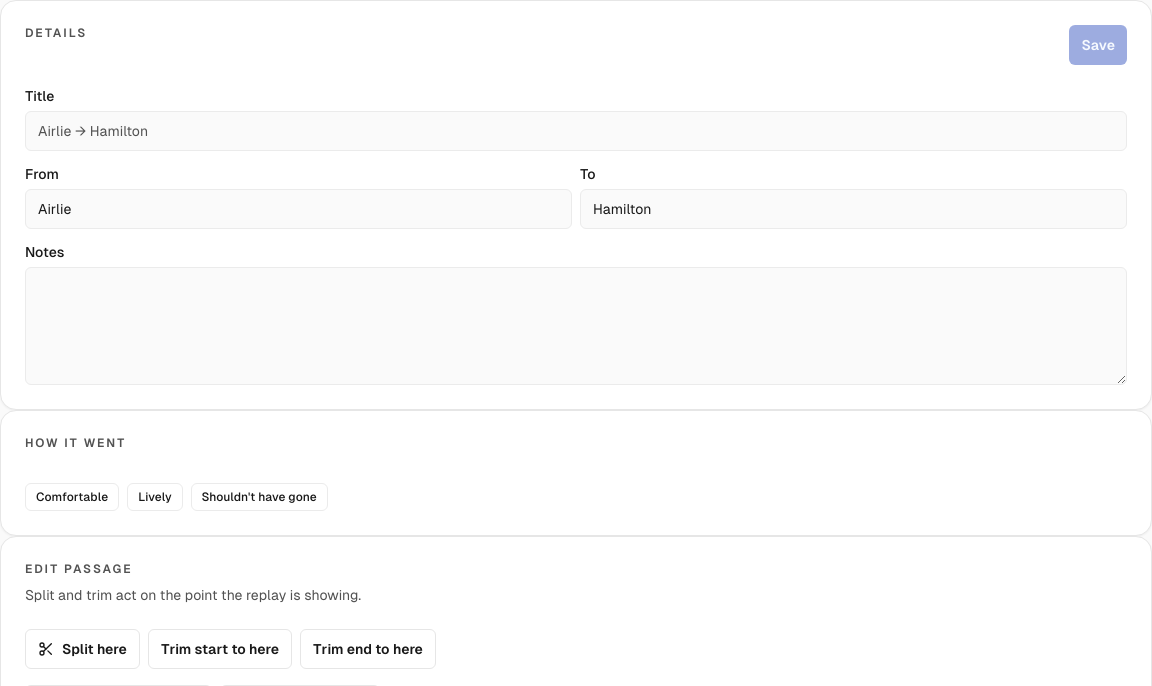
Test case: PassageEditPanel with unsaved edits › refuses split, trim and merge until the edits are saved, and says why
Type "x" into the text box labelled "Notes". click: x=576, y=326
box: [25, 267, 1127, 385]
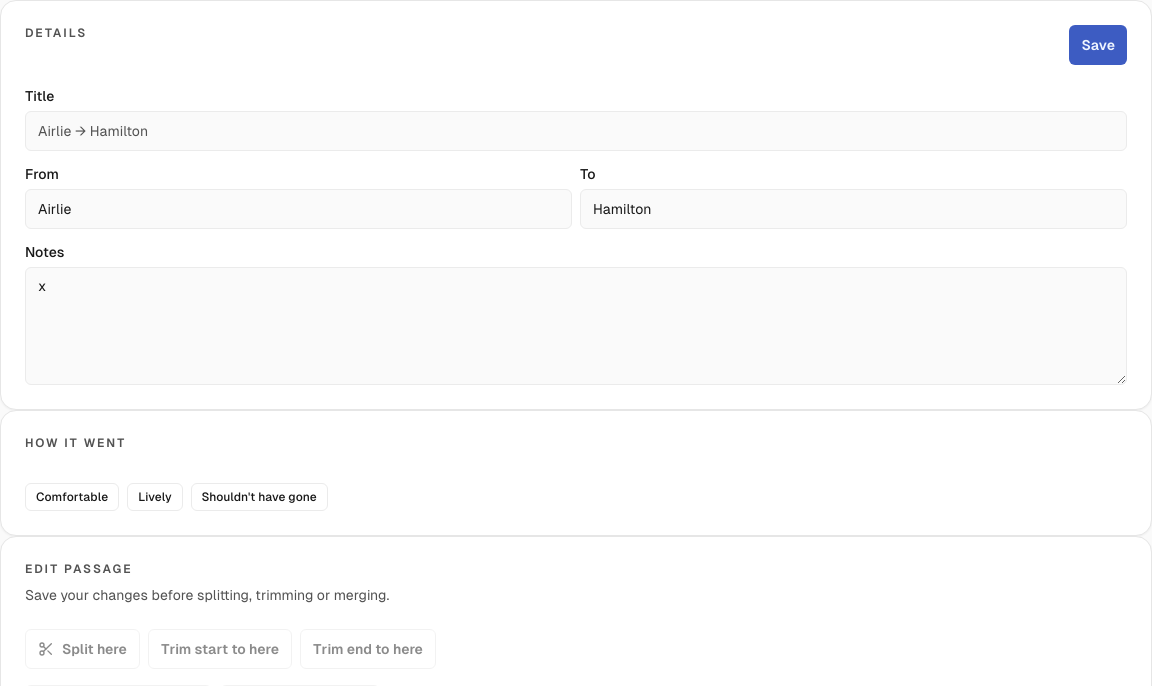
Check: the button "Split here" is disabled, box [25, 629, 140, 669]
Check: the button "Trim start to here" is disabled, box [148, 629, 292, 669]
Check: the button "Trim end to here" is disabled, box [300, 629, 436, 669]
